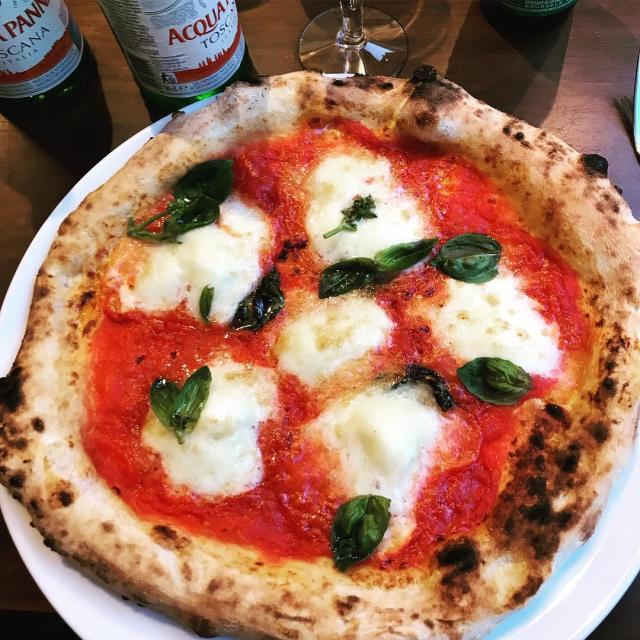basil: (128, 157, 238, 235), (328, 492, 394, 573), (368, 361, 456, 413), (428, 233, 504, 283), (457, 355, 531, 406), (166, 364, 215, 438), (233, 267, 287, 334), (319, 194, 381, 244), (370, 236, 436, 282), (316, 257, 379, 303), (152, 377, 185, 448), (169, 196, 219, 238), (126, 216, 181, 253), (199, 286, 224, 327)
pizza: (0, 63, 640, 640)
